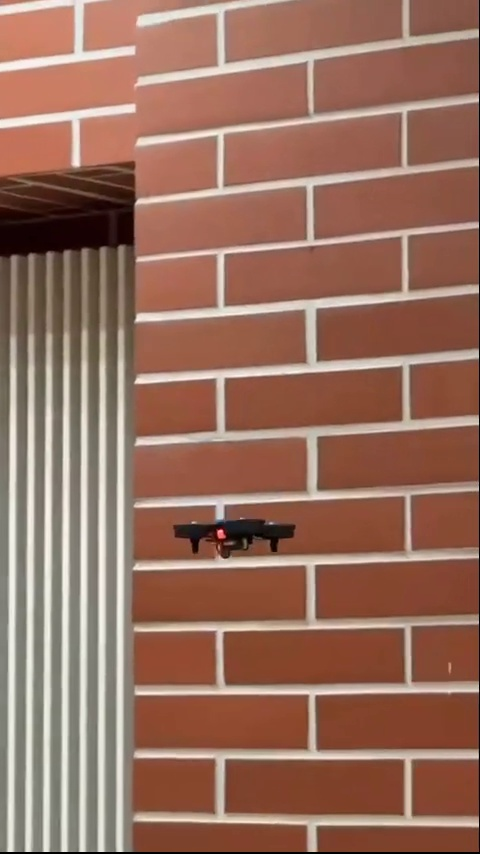drone: (177, 507, 306, 564)
